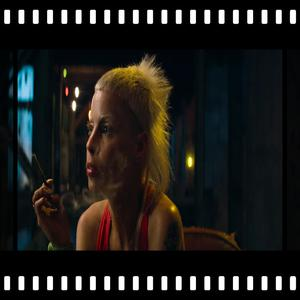cigarette: (31, 155, 49, 187)
